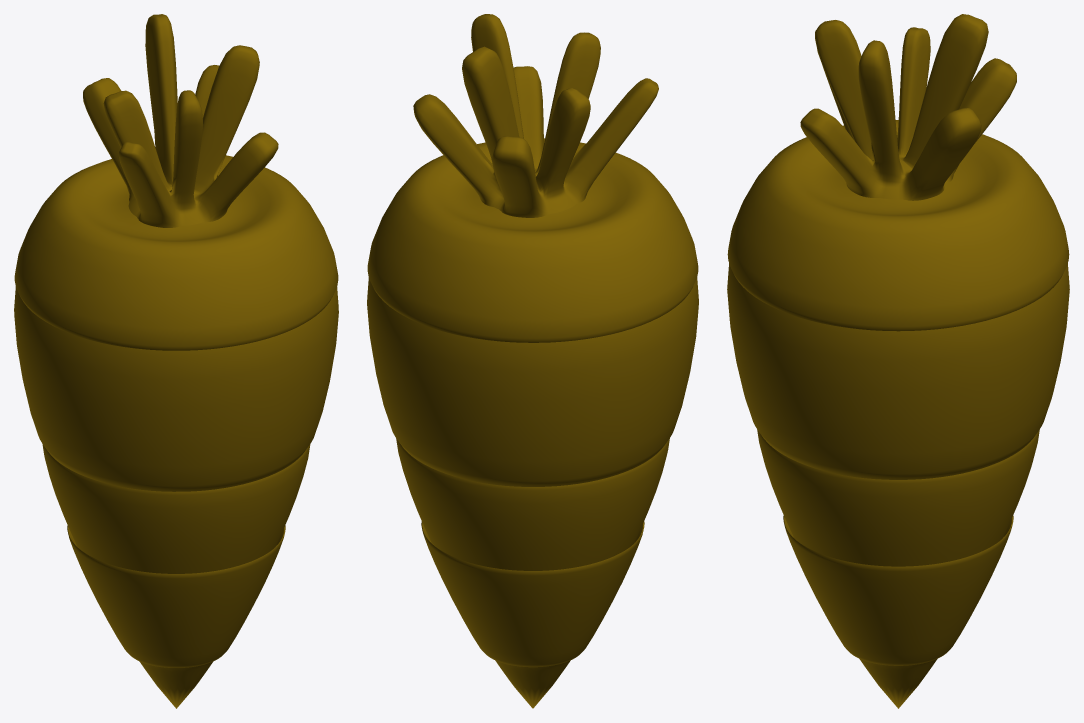
Rendered from Golden_Carrot 1.fbx.
3 views of the same model, side by side, from view 1: azimuth 30°, elevation 25°; view 2: azimuth 150°, elevation 25°; view 3: azimuth 270°, elevation 25° (orthographic). The views are drawn at different scales.
Visible parts, largest first — view 1: GEO_GoldenCarrot; view 2: GEO_GoldenCarrot; view 3: GEO_GoldenCarrot.
Part boxes in pixels (bbox=[...]): GEO_GoldenCarrot: bbox=[14, 14, 338, 708]; GEO_GoldenCarrot: bbox=[367, 14, 698, 708]; GEO_GoldenCarrot: bbox=[727, 14, 1069, 708].
Size of the model in its own units: 72.1 by 163 by 72.1.
